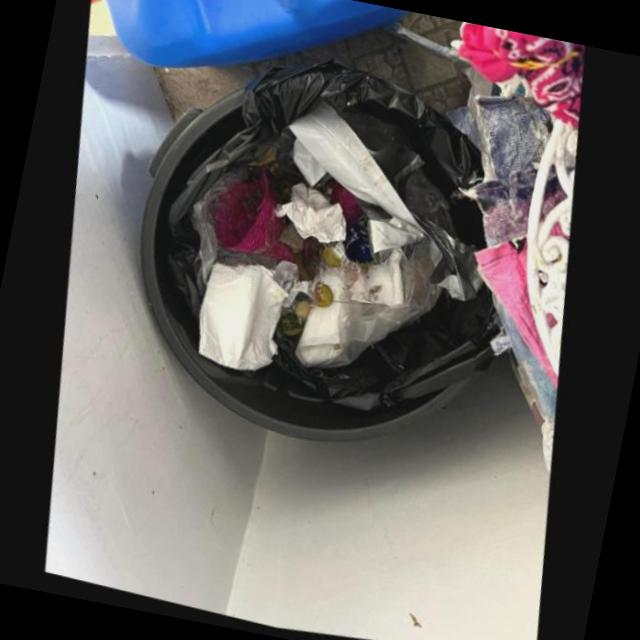giay: (198, 267, 285, 372), (294, 269, 345, 370), (274, 186, 346, 246)
vo_trai_cay: (281, 318, 302, 343), (313, 287, 331, 309), (322, 251, 340, 270)
